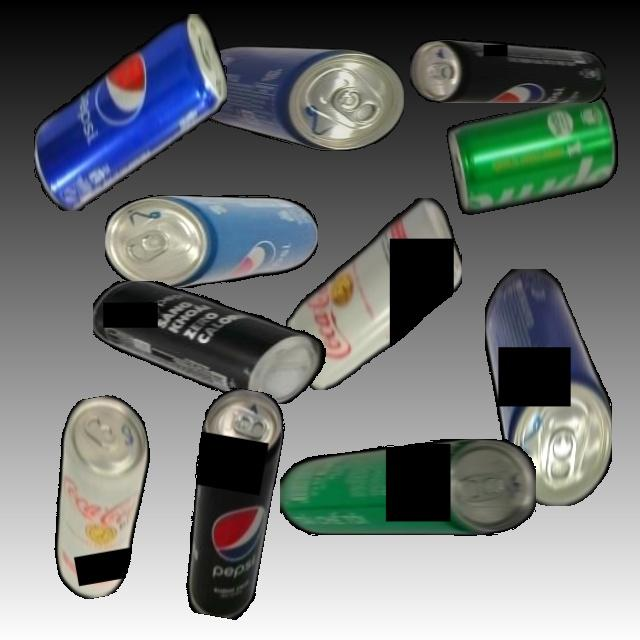debris: (33, 13, 227, 211), (285, 197, 462, 390), (484, 268, 612, 506), (30, 390, 173, 603), (93, 280, 332, 404), (171, 384, 290, 622), (279, 439, 536, 536), (186, 46, 404, 151), (445, 94, 625, 216), (105, 194, 318, 288), (410, 38, 606, 103)
